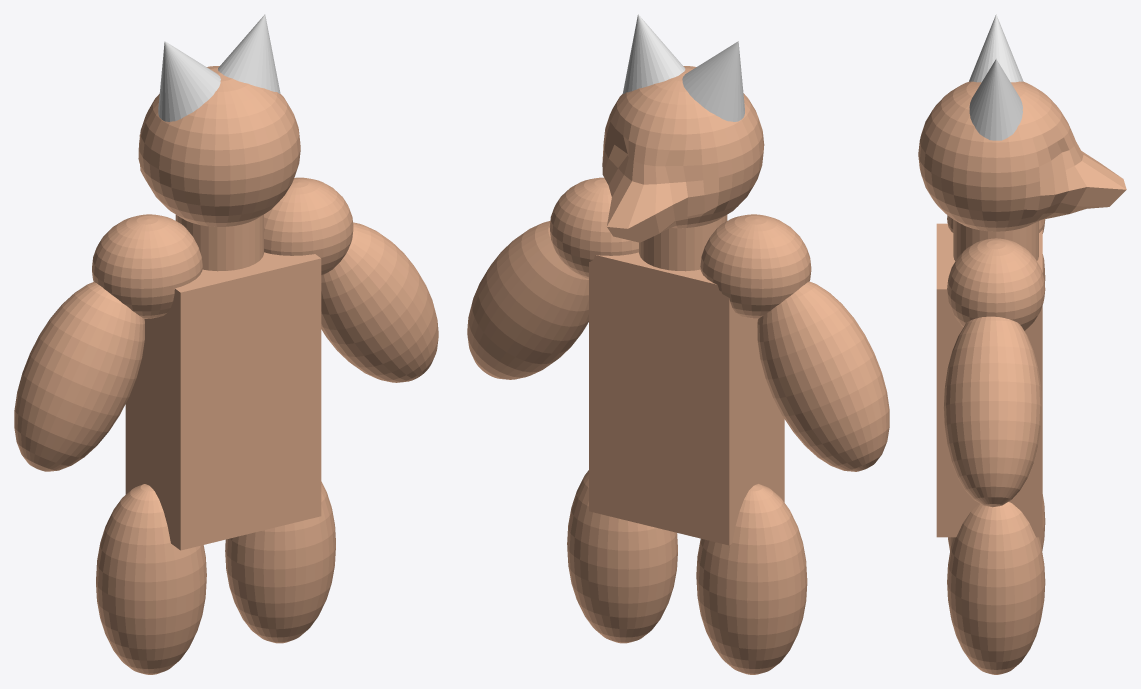
The model's file is Minotaur.fbx.
The picture shows the model from 3 angles, left to right: view 1: azimuth 30°, elevation 25°; view 2: azimuth 150°, elevation 25°; view 3: azimuth 270°, elevation 25°; orthographic projection. The views are drawn at different scales.
Visible parts, largest first — view 1: Cube, Sphere.006, Sphere.004, Sphere.002, Sphere.005, Sphere.003, Sphere.001, Sphere, Cone, Cylinder, Cone.001; view 2: Cube, Sphere.006, Sphere.004, Sphere.002, Sphere.005, Sphere.003, Sphere.001, Sphere, Cone, Cylinder, Cone.001; view 3: Sphere.006, Sphere.005, Sphere.003, Cube, Sphere, Cone.001, Cone, Cylinder.
Boxes of the visible parts, bbox=[...] form: Cube: bbox=[125, 252, 321, 550]; Sphere.006: bbox=[138, 66, 300, 226]; Sphere.004: bbox=[14, 282, 144, 471]; Sphere.002: bbox=[96, 484, 206, 674]; Sphere.005: bbox=[321, 222, 438, 382]; Sphere.003: bbox=[225, 481, 335, 643]; Sphere.001: bbox=[92, 214, 202, 318]; Sphere: bbox=[264, 177, 353, 276]; Cone: bbox=[158, 41, 220, 121]; Cylinder: bbox=[175, 214, 263, 271]; Cone.001: bbox=[218, 14, 280, 93]; Cube: bbox=[589, 252, 784, 545]; Sphere.006: bbox=[602, 66, 764, 242]; Sphere.004: bbox=[757, 281, 889, 471]; Sphere.002: bbox=[696, 484, 807, 674]; Sphere.005: bbox=[467, 221, 588, 379]; Sphere.003: bbox=[567, 470, 677, 643]; Sphere.001: bbox=[700, 214, 811, 318]; Sphere: bbox=[549, 177, 638, 278]; Cone: bbox=[682, 41, 744, 121]; Cylinder: bbox=[639, 215, 727, 271]; Cone.001: bbox=[622, 14, 685, 94]; Sphere.006: bbox=[918, 81, 1126, 231]; Sphere.005: bbox=[943, 316, 1041, 507]; Sphere.003: bbox=[947, 502, 1045, 674]; Cube: bbox=[936, 223, 1042, 537]; Sphere: bbox=[947, 238, 1045, 330]; Cone.001: bbox=[969, 59, 1022, 140]; Cone: bbox=[969, 14, 1023, 82]; Cylinder: bbox=[953, 219, 1038, 260].
Size of the model in its own units: 588 by 858 by 267.
